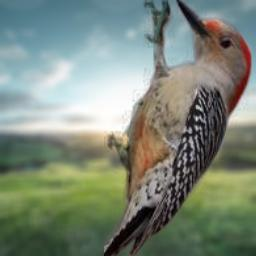Woodpecker: (104, 0, 252, 256)
